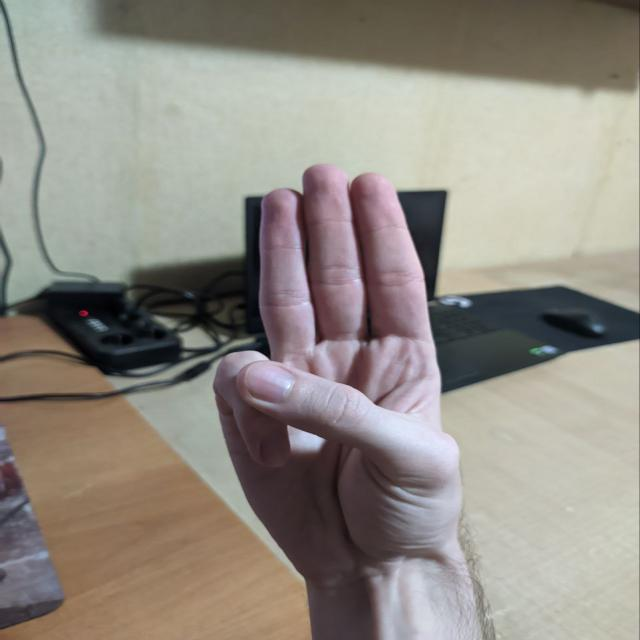sh: (186, 152, 482, 545)
